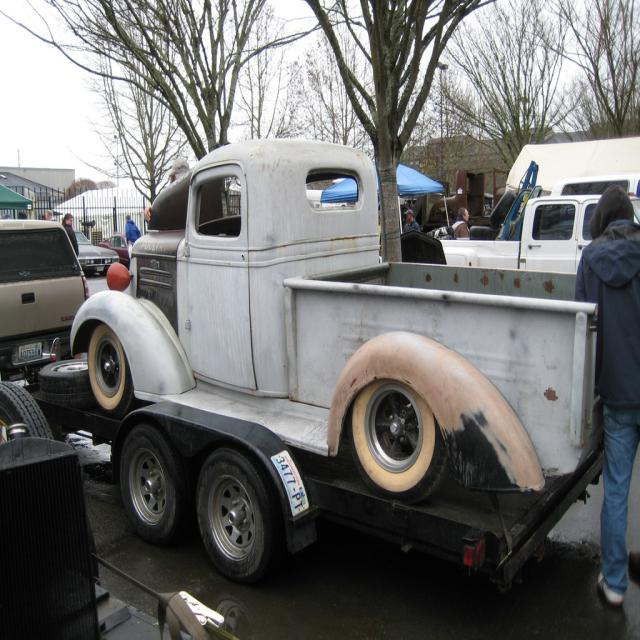car: (0, 217, 108, 373)
